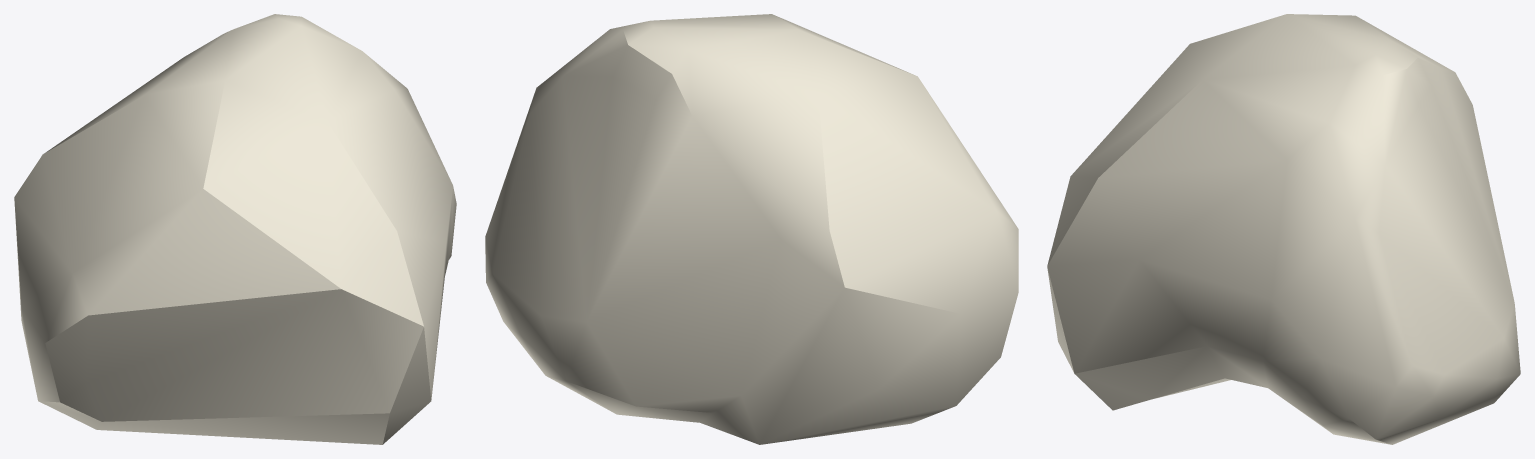
Rendered from fma230986_fj3305.glb.
3 views of the same model, side by side, from view 1: azimuth 30°, elevation 25°; view 2: azimuth 150°, elevation 25°; view 3: azimuth 270°, elevation 25° (orthographic). The views are drawn at different scales.
Parts seen in each view (by area): view 1: FMA230986_FJ3305; view 2: FMA230986_FJ3305; view 3: FMA230986_FJ3305.
Part boxes in pixels (box(x1,y1,x2,y2)): FMA230986_FJ3305: box(14, 14, 456, 444); FMA230986_FJ3305: box(485, 14, 1018, 444); FMA230986_FJ3305: box(1047, 14, 1520, 444).
Bounding box in the file's own units: 0.00861 × 0.00635 × 0.00737.
